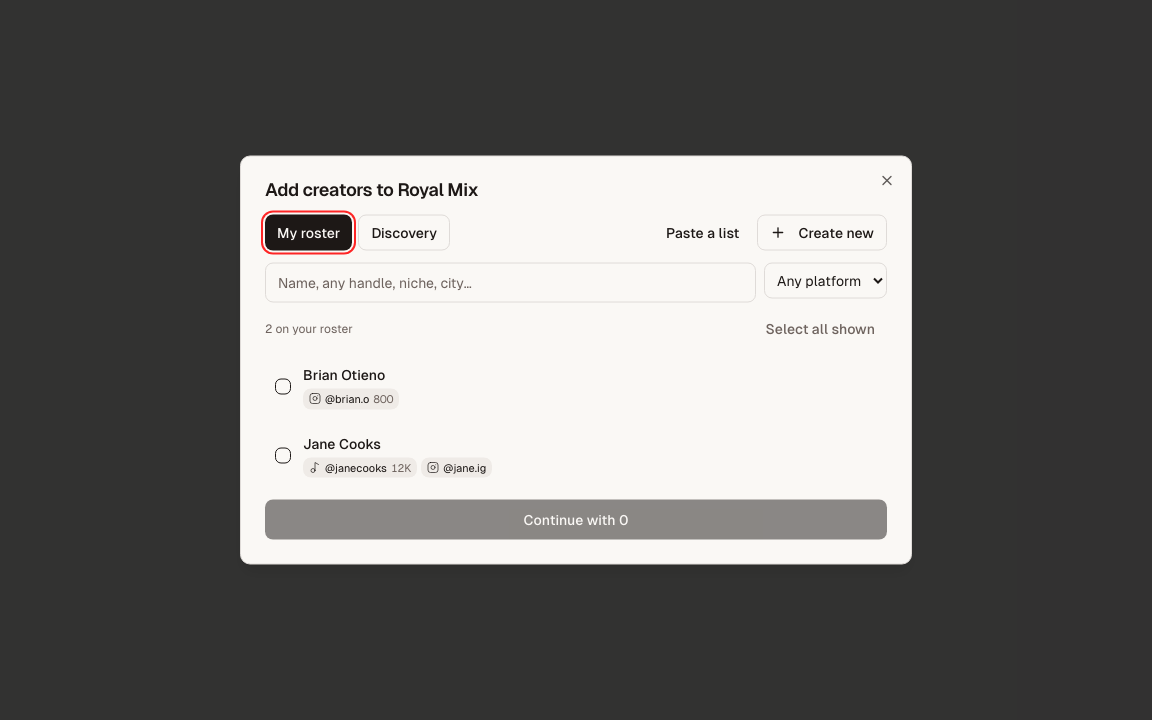
it: adding from the roster on a campaign page › finds a creator by a handle on any of their platforms
Type "jane.ig" into the field named "search".
click(510, 282); type("jane.ig")  # box [265,262,756,302]
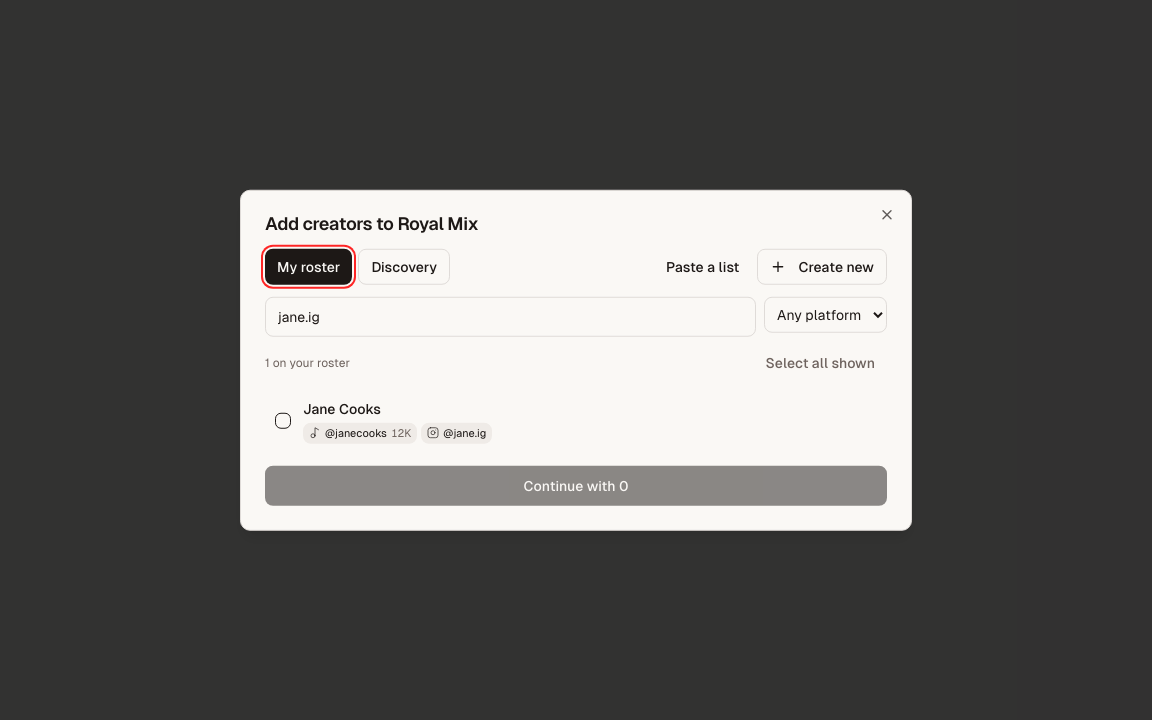
Expected: the checkbox named "jane cooks" is shown, [275,413,291,429]
Expected: the text "Brian Otieno" is gone
